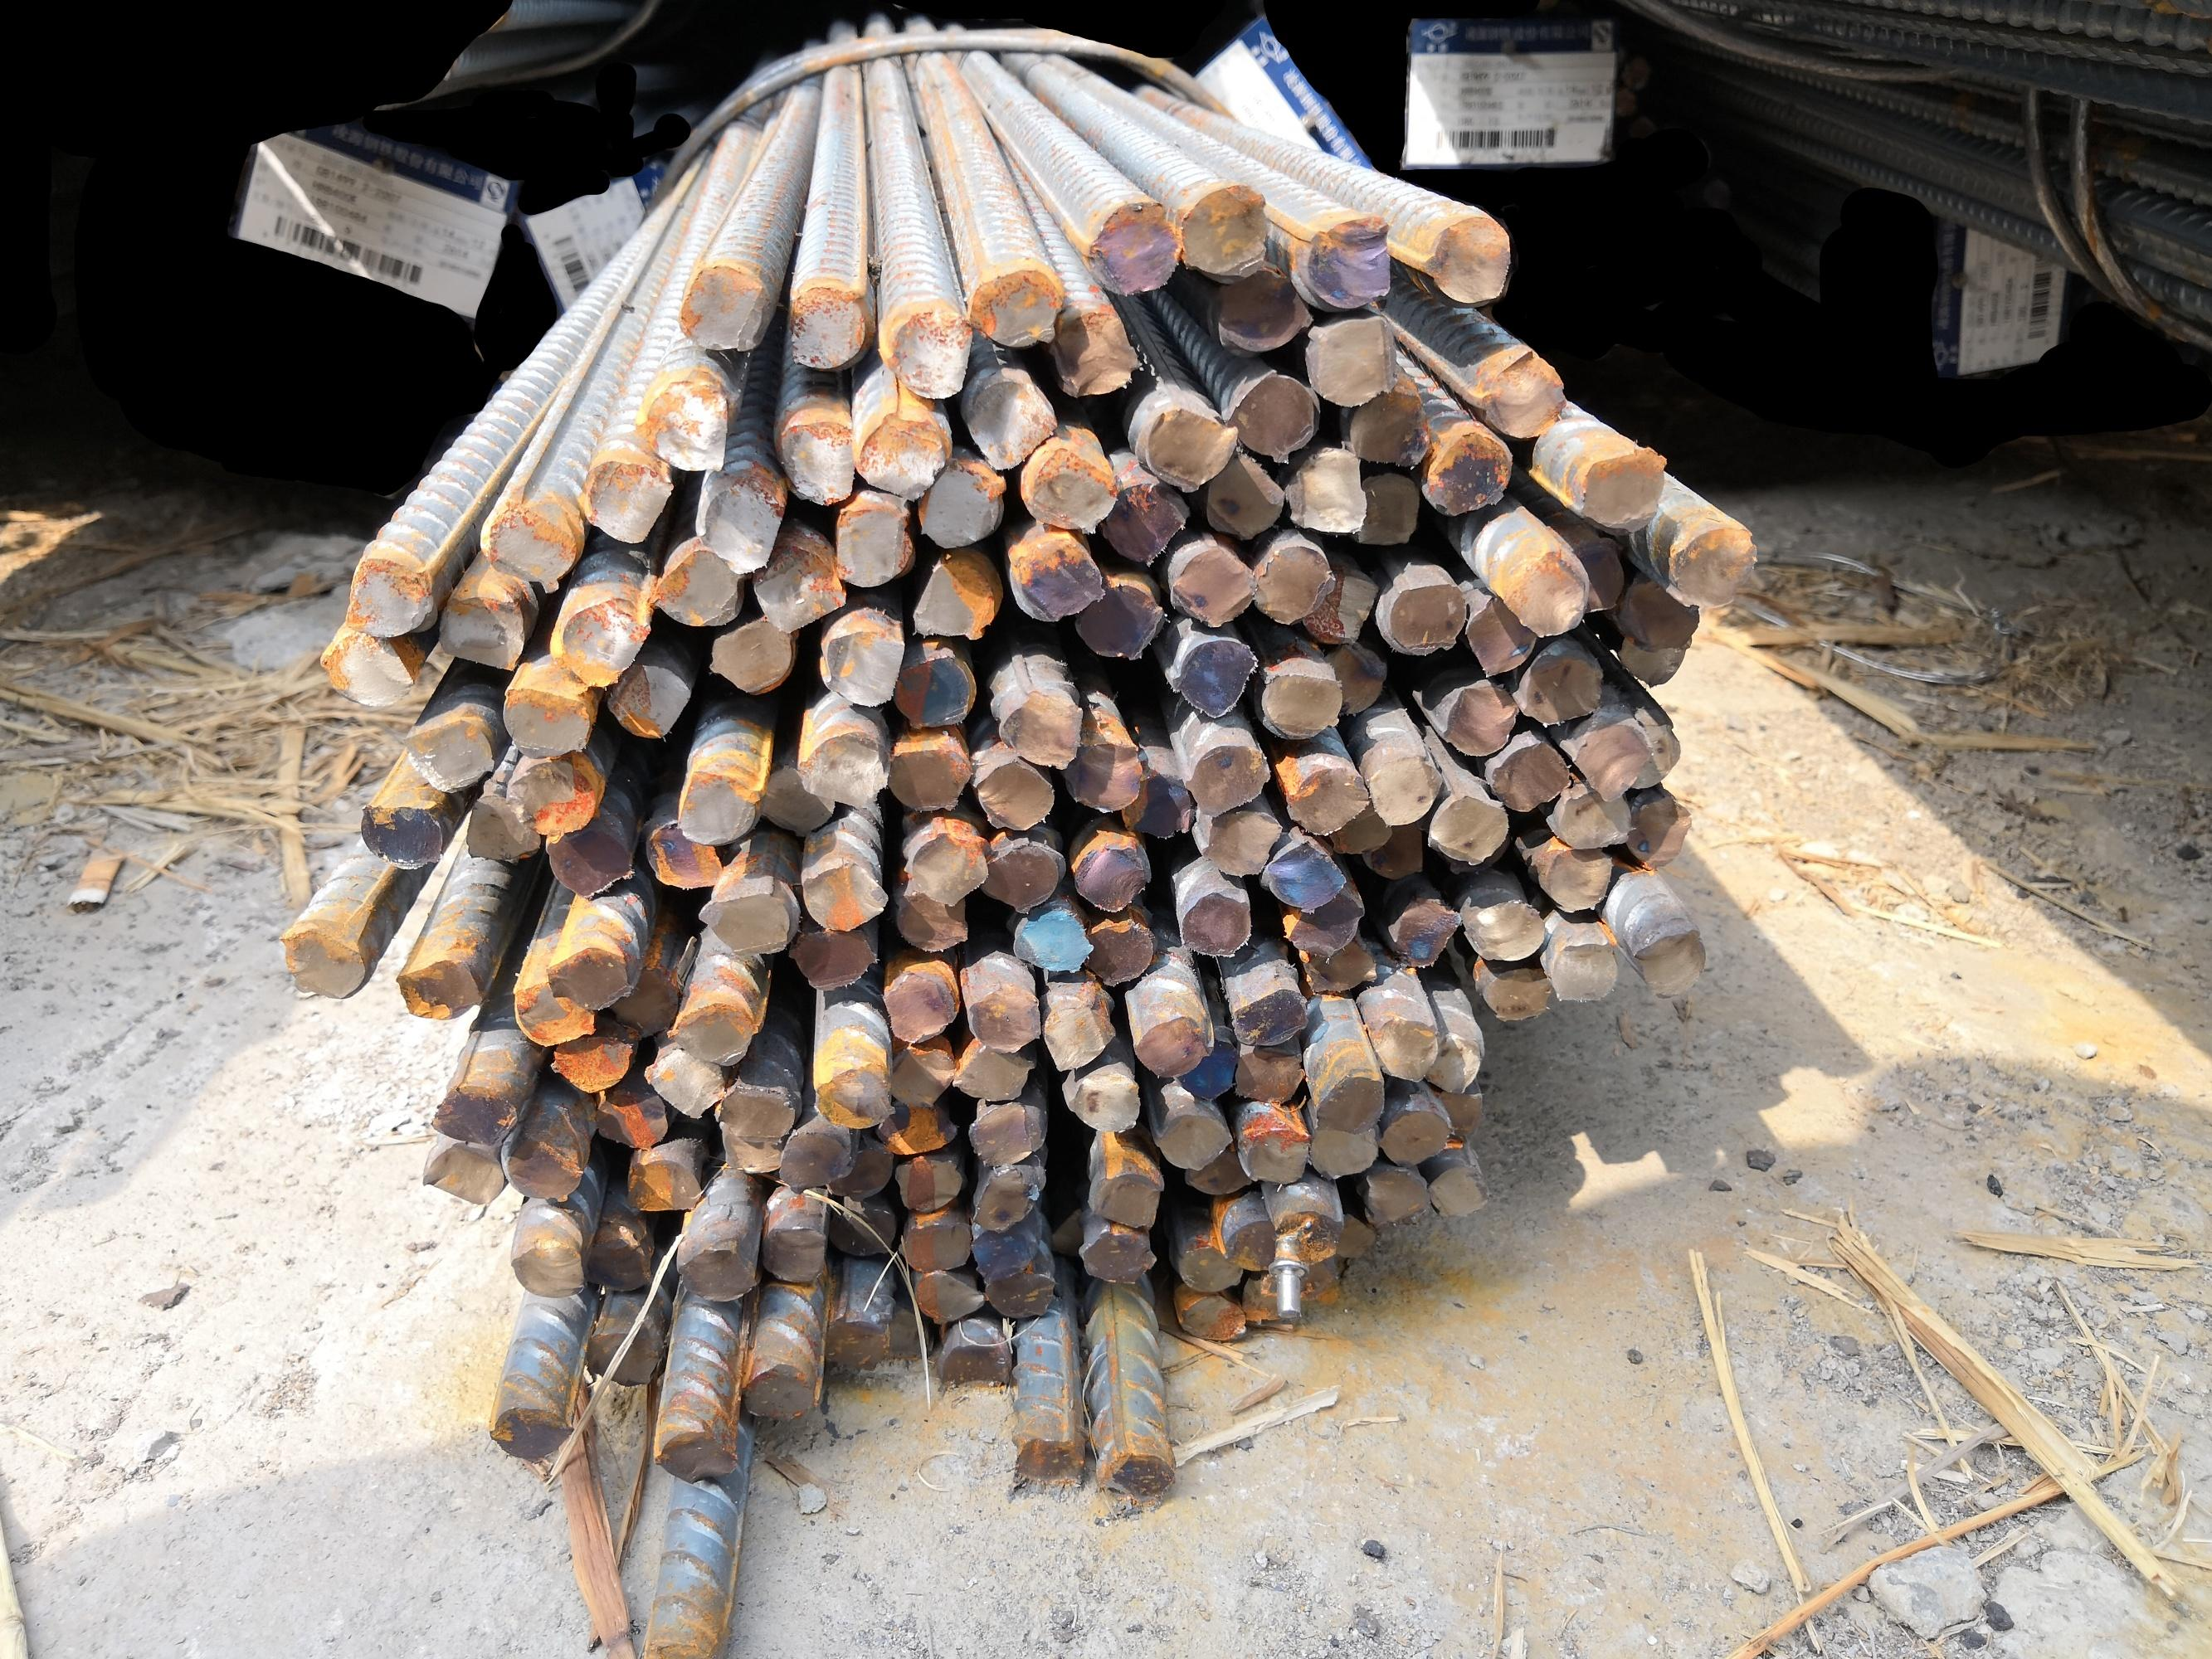bar: (476, 491, 582, 596), (1016, 430, 1121, 535), (1081, 197, 1185, 300), (1170, 183, 1279, 281), (1138, 399, 1243, 497), (1220, 366, 1320, 467), (629, 378, 732, 474), (1004, 530, 1107, 624), (551, 594, 650, 690), (959, 378, 1058, 474), (1299, 312, 1398, 408), (748, 540, 849, 634), (1302, 209, 1396, 310), (572, 455, 675, 545), (854, 408, 950, 504), (692, 477, 786, 575), (882, 305, 976, 403), (1211, 268, 1318, 354), (1046, 303, 1142, 397), (913, 457, 1006, 554), (1421, 213, 1515, 305), (1665, 519, 1761, 610), (1422, 423, 1513, 519), (793, 725, 891, 814), (675, 261, 769, 352), (905, 554, 1002, 641), (312, 627, 415, 709), (994, 683, 1084, 775), (1278, 446, 1372, 535), (1576, 443, 1670, 532), (1475, 350, 1569, 439), (336, 556, 436, 640), (396, 714, 497, 796), (1198, 451, 1288, 542), (1246, 537, 1337, 627), (1164, 540, 1257, 629), (702, 610, 798, 695), (432, 589, 530, 673), (502, 753, 600, 836), (1072, 580, 1170, 664), (774, 415, 861, 507), (826, 500, 913, 592), (694, 885, 797, 962), (598, 659, 692, 742), (1511, 645, 1605, 728), (1506, 542, 1588, 638), (1170, 629, 1257, 718), (1102, 479, 1187, 570), (882, 650, 974, 734), (818, 624, 905, 711), (784, 282, 868, 373), (781, 920, 882, 995), (647, 547, 741, 627), (966, 267, 1060, 347), (971, 751, 1058, 836), (1569, 716, 1654, 803), (669, 765, 760, 847), (1180, 739, 1271, 821), (499, 681, 591, 762), (544, 824, 640, 901), (504, 974, 601, 1049), (1344, 389, 1431, 472), (748, 762, 840, 840), (274, 924, 368, 1000), (640, 1040, 727, 1122), (497, 1124, 586, 1204), (1006, 901, 1098, 978), (350, 796, 446, 870), (903, 826, 988, 908), (1058, 734, 1143, 816), (797, 861, 894, 932), (880, 742, 973, 817), (1489, 734, 1572, 816), (1070, 835, 1156, 915), (1384, 577, 1469, 657), (877, 967, 964, 1046), (1260, 838, 1349, 915), (973, 840, 1063, 915), (418, 1134, 511, 1208), (1037, 997, 1121, 1077), (1259, 666, 1346, 742), (1614, 577, 1705, 650), (662, 995, 755, 1066), (1279, 765, 1372, 836), (1436, 681, 1520, 760), (425, 1080, 521, 1148), (1457, 892, 1548, 964), (1384, 890, 1466, 969), (1117, 762, 1194, 845), (1464, 592, 1537, 680), (640, 821, 729, 892), (1422, 795, 1511, 866), (807, 1061, 898, 1131), (1365, 753, 1447, 829), (1196, 807, 1281, 880), (540, 946, 634, 1012), (542, 1030, 638, 1094), (966, 1096, 1048, 1171), (460, 789, 542, 864), (1351, 467, 1424, 551), (485, 1401, 577, 1467), (394, 957, 488, 1021), (1300, 570, 1381, 645), (1299, 1110, 1381, 1183), (950, 1037, 1037, 1105), (1281, 892, 1368, 960), (1079, 915, 1157, 990), (891, 880, 971, 953), (1632, 925, 1708, 1000), (1537, 840, 1614, 915), (868, 1094, 962, 1155), (1311, 1066, 1389, 1140), (1356, 1159, 1435, 1232), (774, 1124, 854, 1195), (962, 983, 1044, 1053), (1084, 1162, 1166, 1232), (1175, 889, 1257, 958), (1625, 791, 1694, 873), (504, 1232, 587, 1300), (648, 1424, 741, 1485), (967, 1161, 1041, 1237), (1316, 641, 1389, 718), (877, 1039, 955, 1110), (1269, 1197, 1349, 1267), (709, 1077, 798, 1140), (1062, 1070, 1143, 1138), (1130, 1012, 1211, 1080), (675, 1239, 758, 1305), (1077, 1222, 1161, 1288), (587, 1086, 673, 1150), (1548, 788, 1633, 852), (1367, 1016, 1443, 1087), (1377, 1101, 1457, 1169), (1541, 936, 1621, 1004), (905, 1262, 988, 1326), (608, 965, 680, 1039), (755, 1215, 830, 1284), (1417, 1023, 1487, 1098), (1229, 985, 1309, 1049), (1156, 1105, 1231, 1173), (580, 1324, 657, 1391), (743, 1356, 819, 1422), (1095, 1445, 1180, 1504), (1473, 964, 1555, 1025), (1232, 1044, 1309, 1108), (964, 1220, 1044, 1281), (889, 1152, 969, 1213), (1295, 939, 1382, 995), (1238, 1124, 1313, 1188), (619, 1157, 702, 1215), (1567, 540, 1630, 617), (933, 1335, 1013, 1394), (1424, 1159, 1496, 1225), (580, 1230, 654, 1295), (1009, 1427, 1086, 1488), (1616, 627, 1694, 687), (896, 1213, 971, 1274), (711, 1119, 790, 1176), (828, 1197, 898, 1262), (819, 1312, 891, 1375), (1625, 718, 1684, 791), (1175, 1037, 1239, 1103), (1360, 817, 1428, 880), (1182, 1145, 1262, 1197), (1175, 1291, 1250, 1347), (1215, 1213, 1279, 1277), (1239, 1269, 1309, 1328), (824, 1143, 898, 1199), (1321, 800, 1394, 856), (983, 1267, 1058, 1321), (1173, 1241, 1246, 1293), (1435, 1084, 1489, 1147), (880, 1300, 931, 1364), (1049, 1199, 1093, 1263), (1333, 1209, 1382, 1265), (1293, 1255, 1344, 1304)
